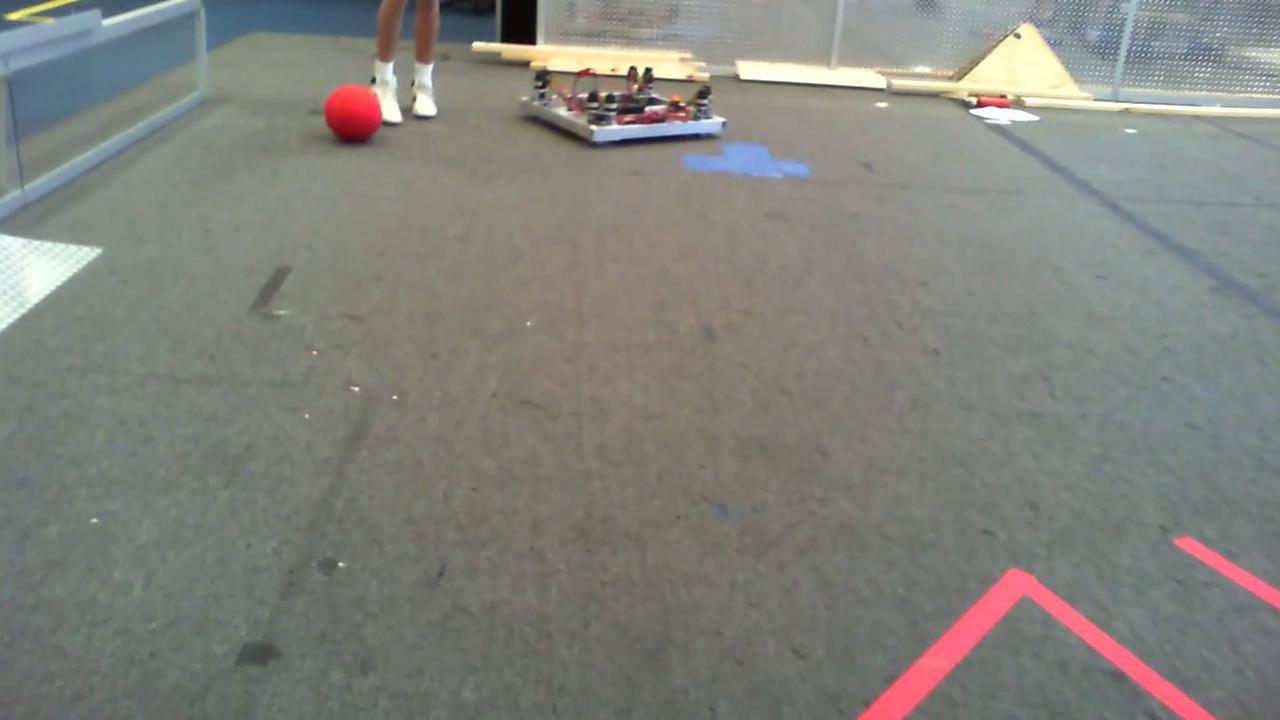Red_Ball: (310, 77, 389, 146)
